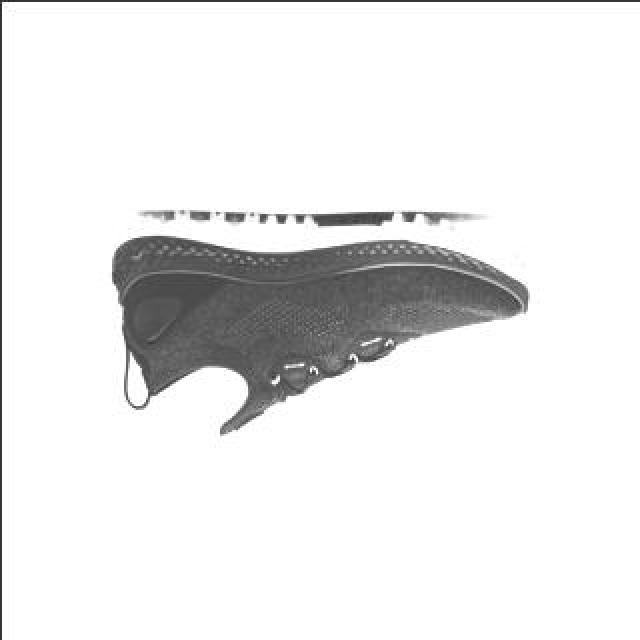shoe: (108, 208, 532, 436)
